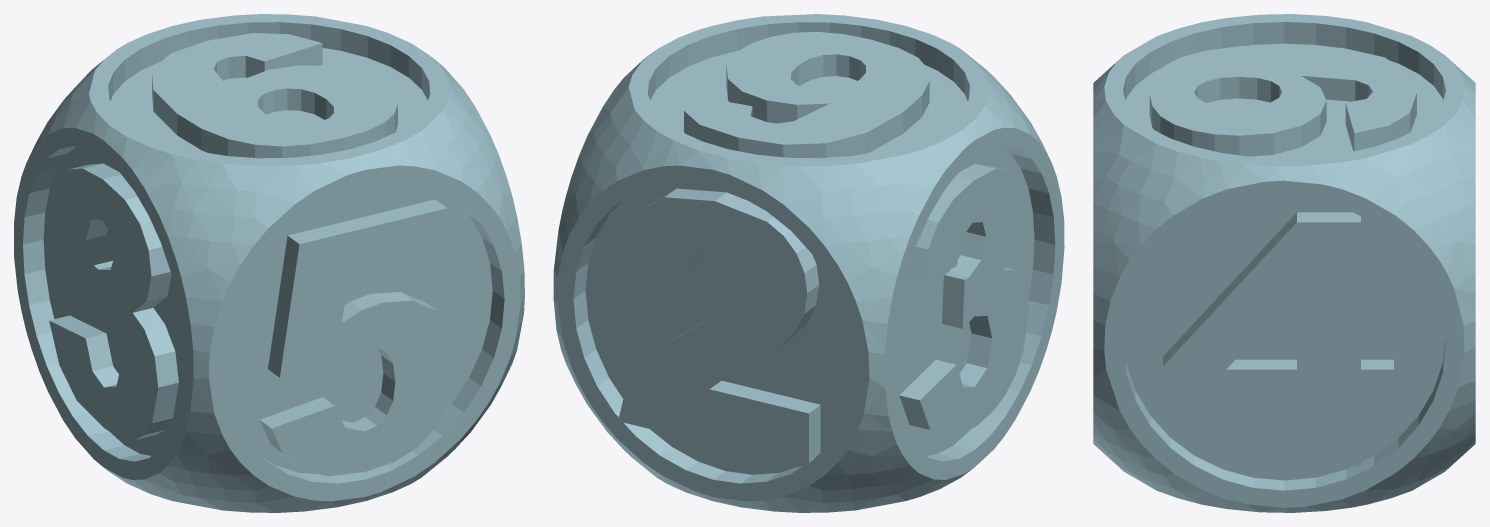
The model's file is miguelDieontheWorkplane.glb.
3 views of the same model, side by side, from view 1: azimuth 30°, elevation 25°; view 2: azimuth 150°, elevation 25°; view 3: azimuth 270°, elevation 25° (orthographic).
Parts seen in each view (by area): view 1: Mesh_Mesh_head_geo.001_lambert2SG.001; view 2: Mesh_Mesh_head_geo.001_lambert2SG.001; view 3: Mesh_Mesh_head_geo.001_lambert2SG.001.
Boxes of the visible parts, left/top/right/bottom form: Mesh_Mesh_head_geo.001_lambert2SG.001: left=14, top=14, right=524, bottom=512; Mesh_Mesh_head_geo.001_lambert2SG.001: left=553, top=14, right=1064, bottom=512; Mesh_Mesh_head_geo.001_lambert2SG.001: left=1093, top=14, right=1475, bottom=512.
Size of the model in its own units: 16 by 16 by 16.
